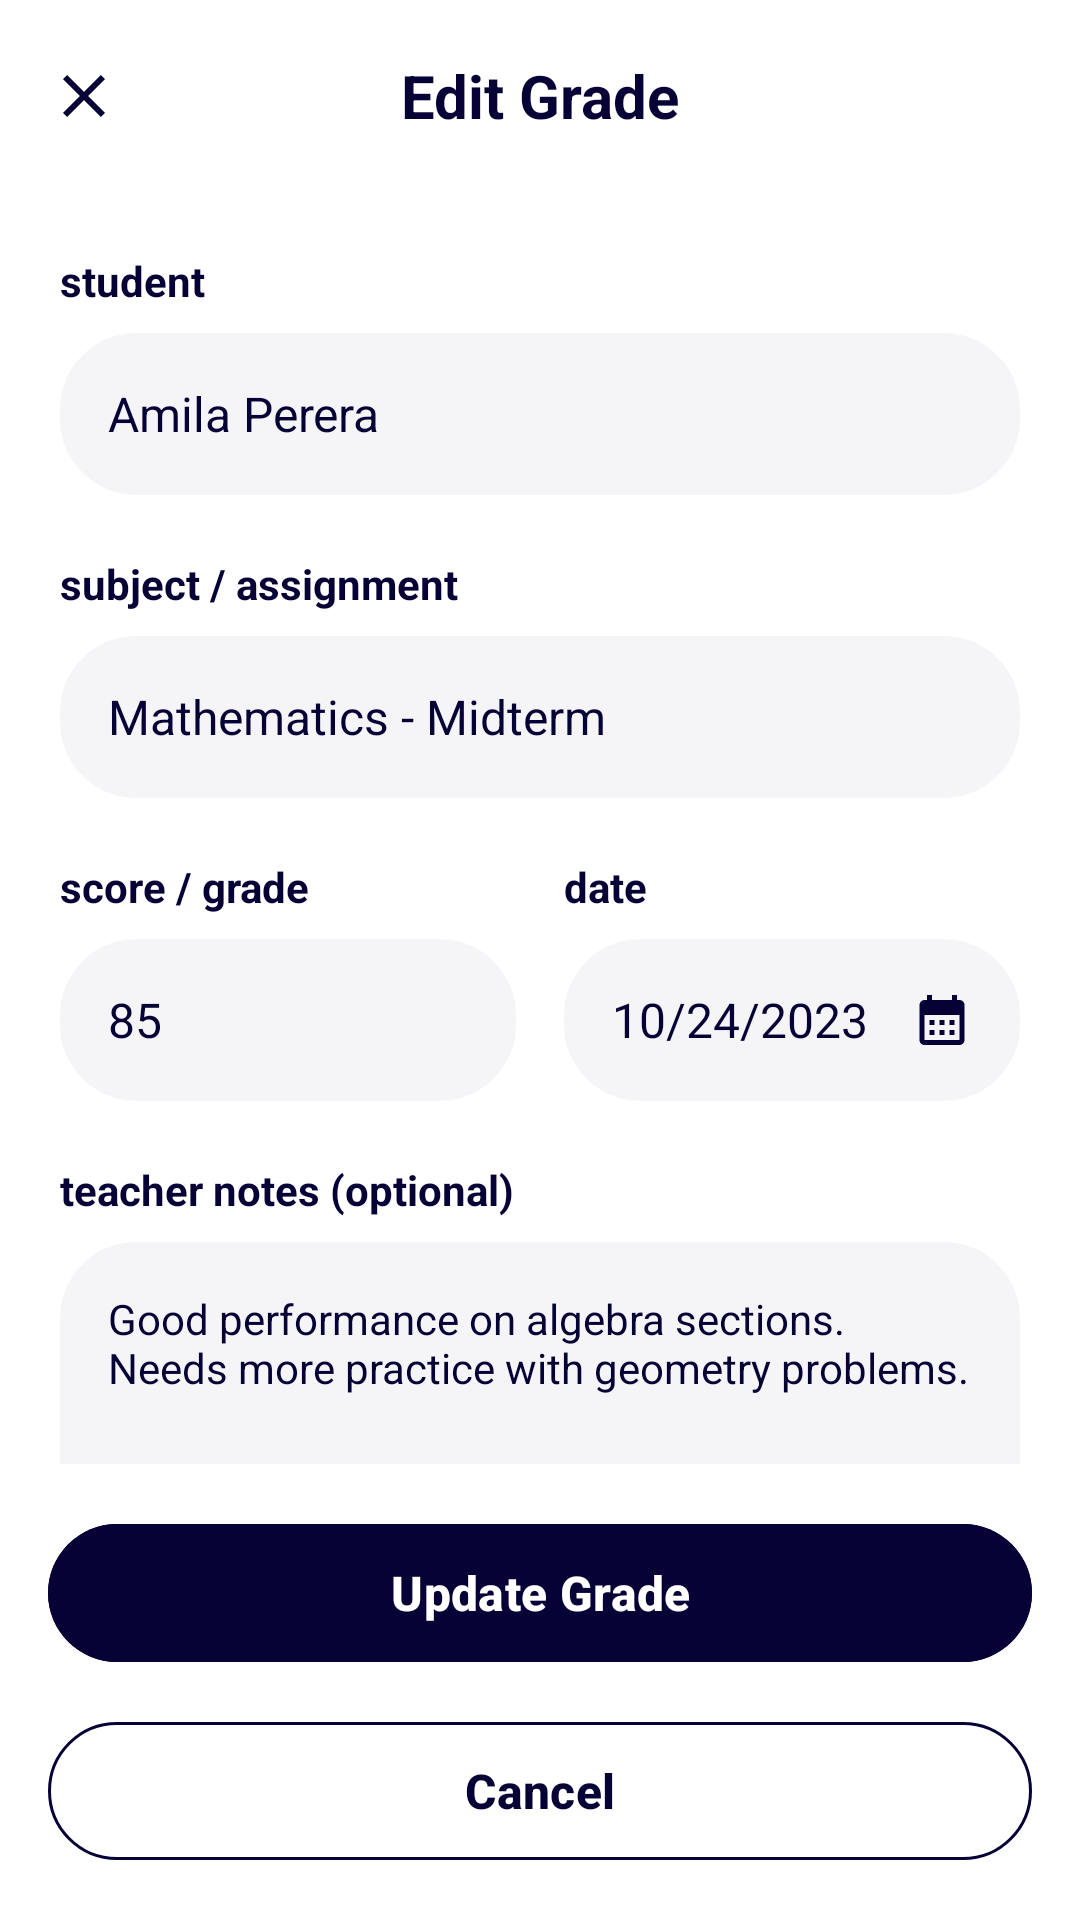

Screen size 1080 × 1920. Icon name, then its center in pixels as [x,y]:
calendar: [942,1020]
close: [84,96]
